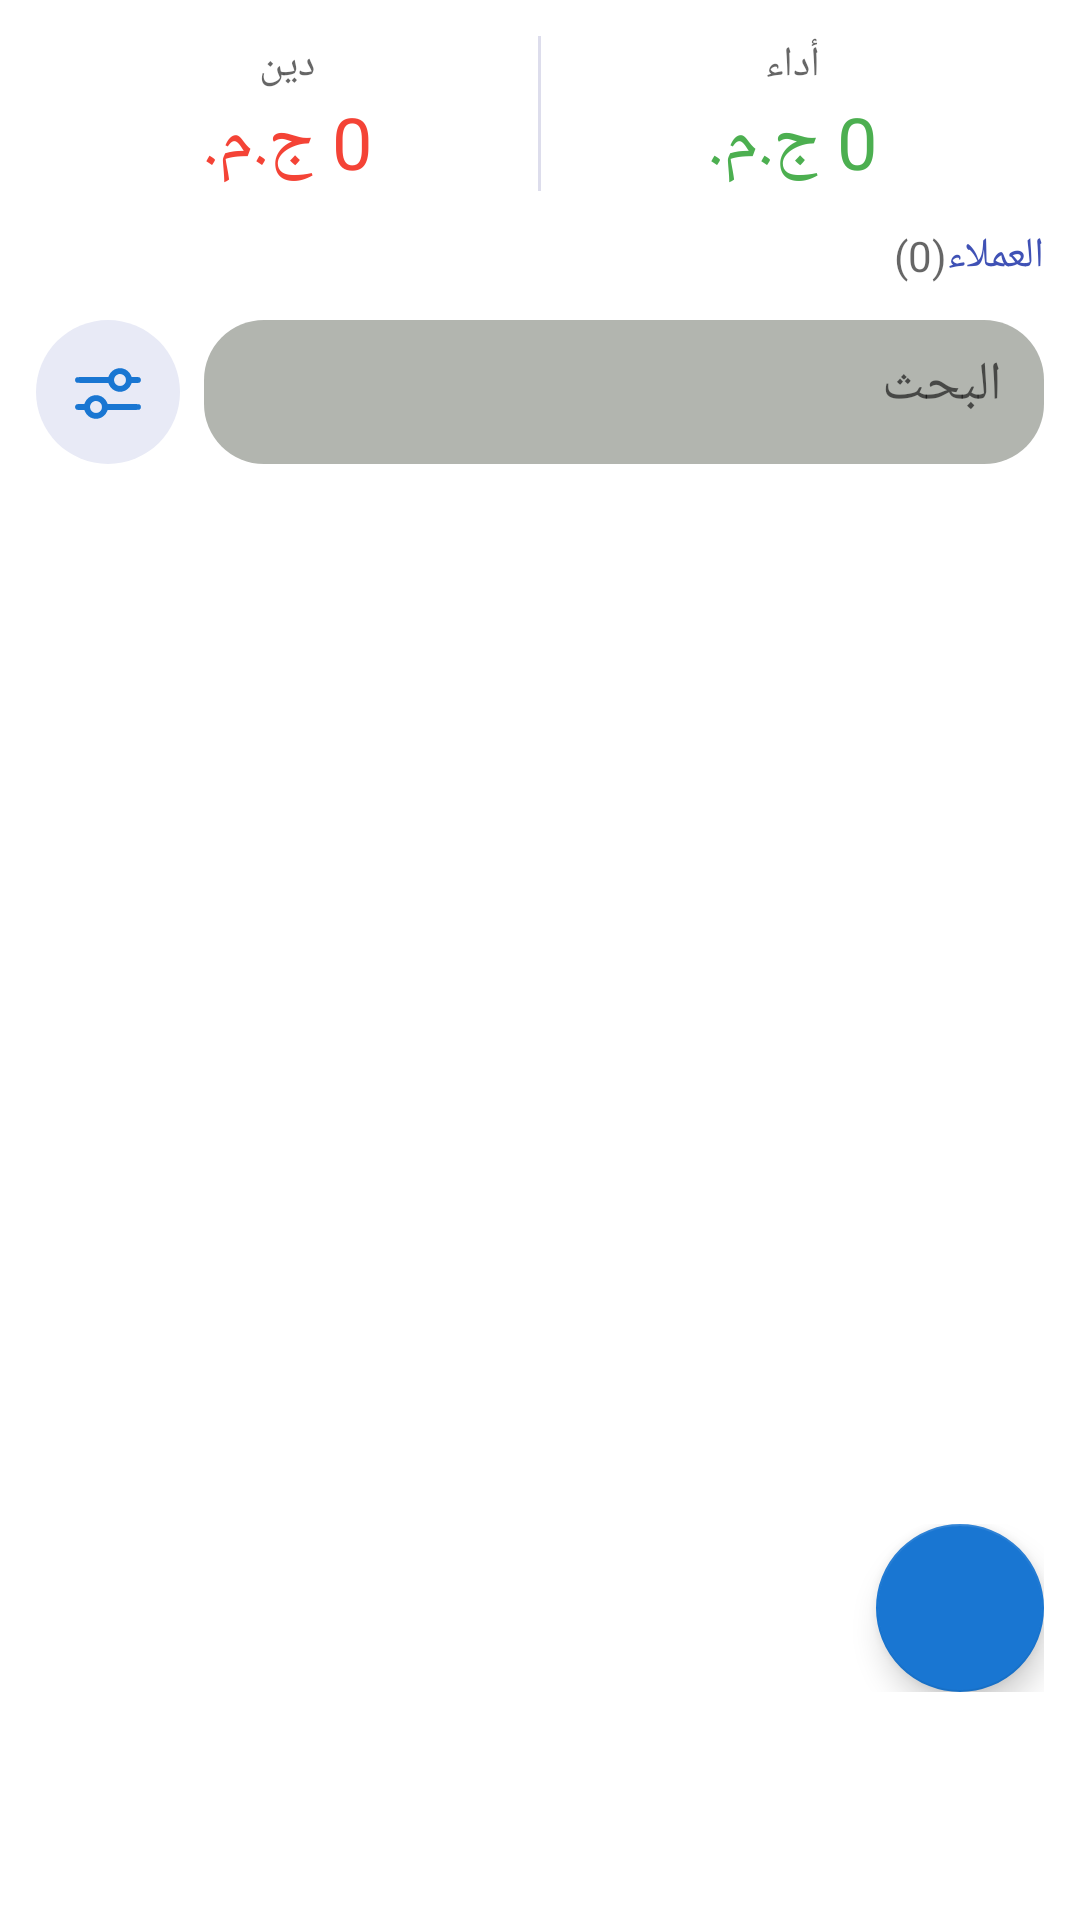

Screen size 1080 x 1920. Icon name, then its center in pixels as [x,y]:
filter: [108,392]
